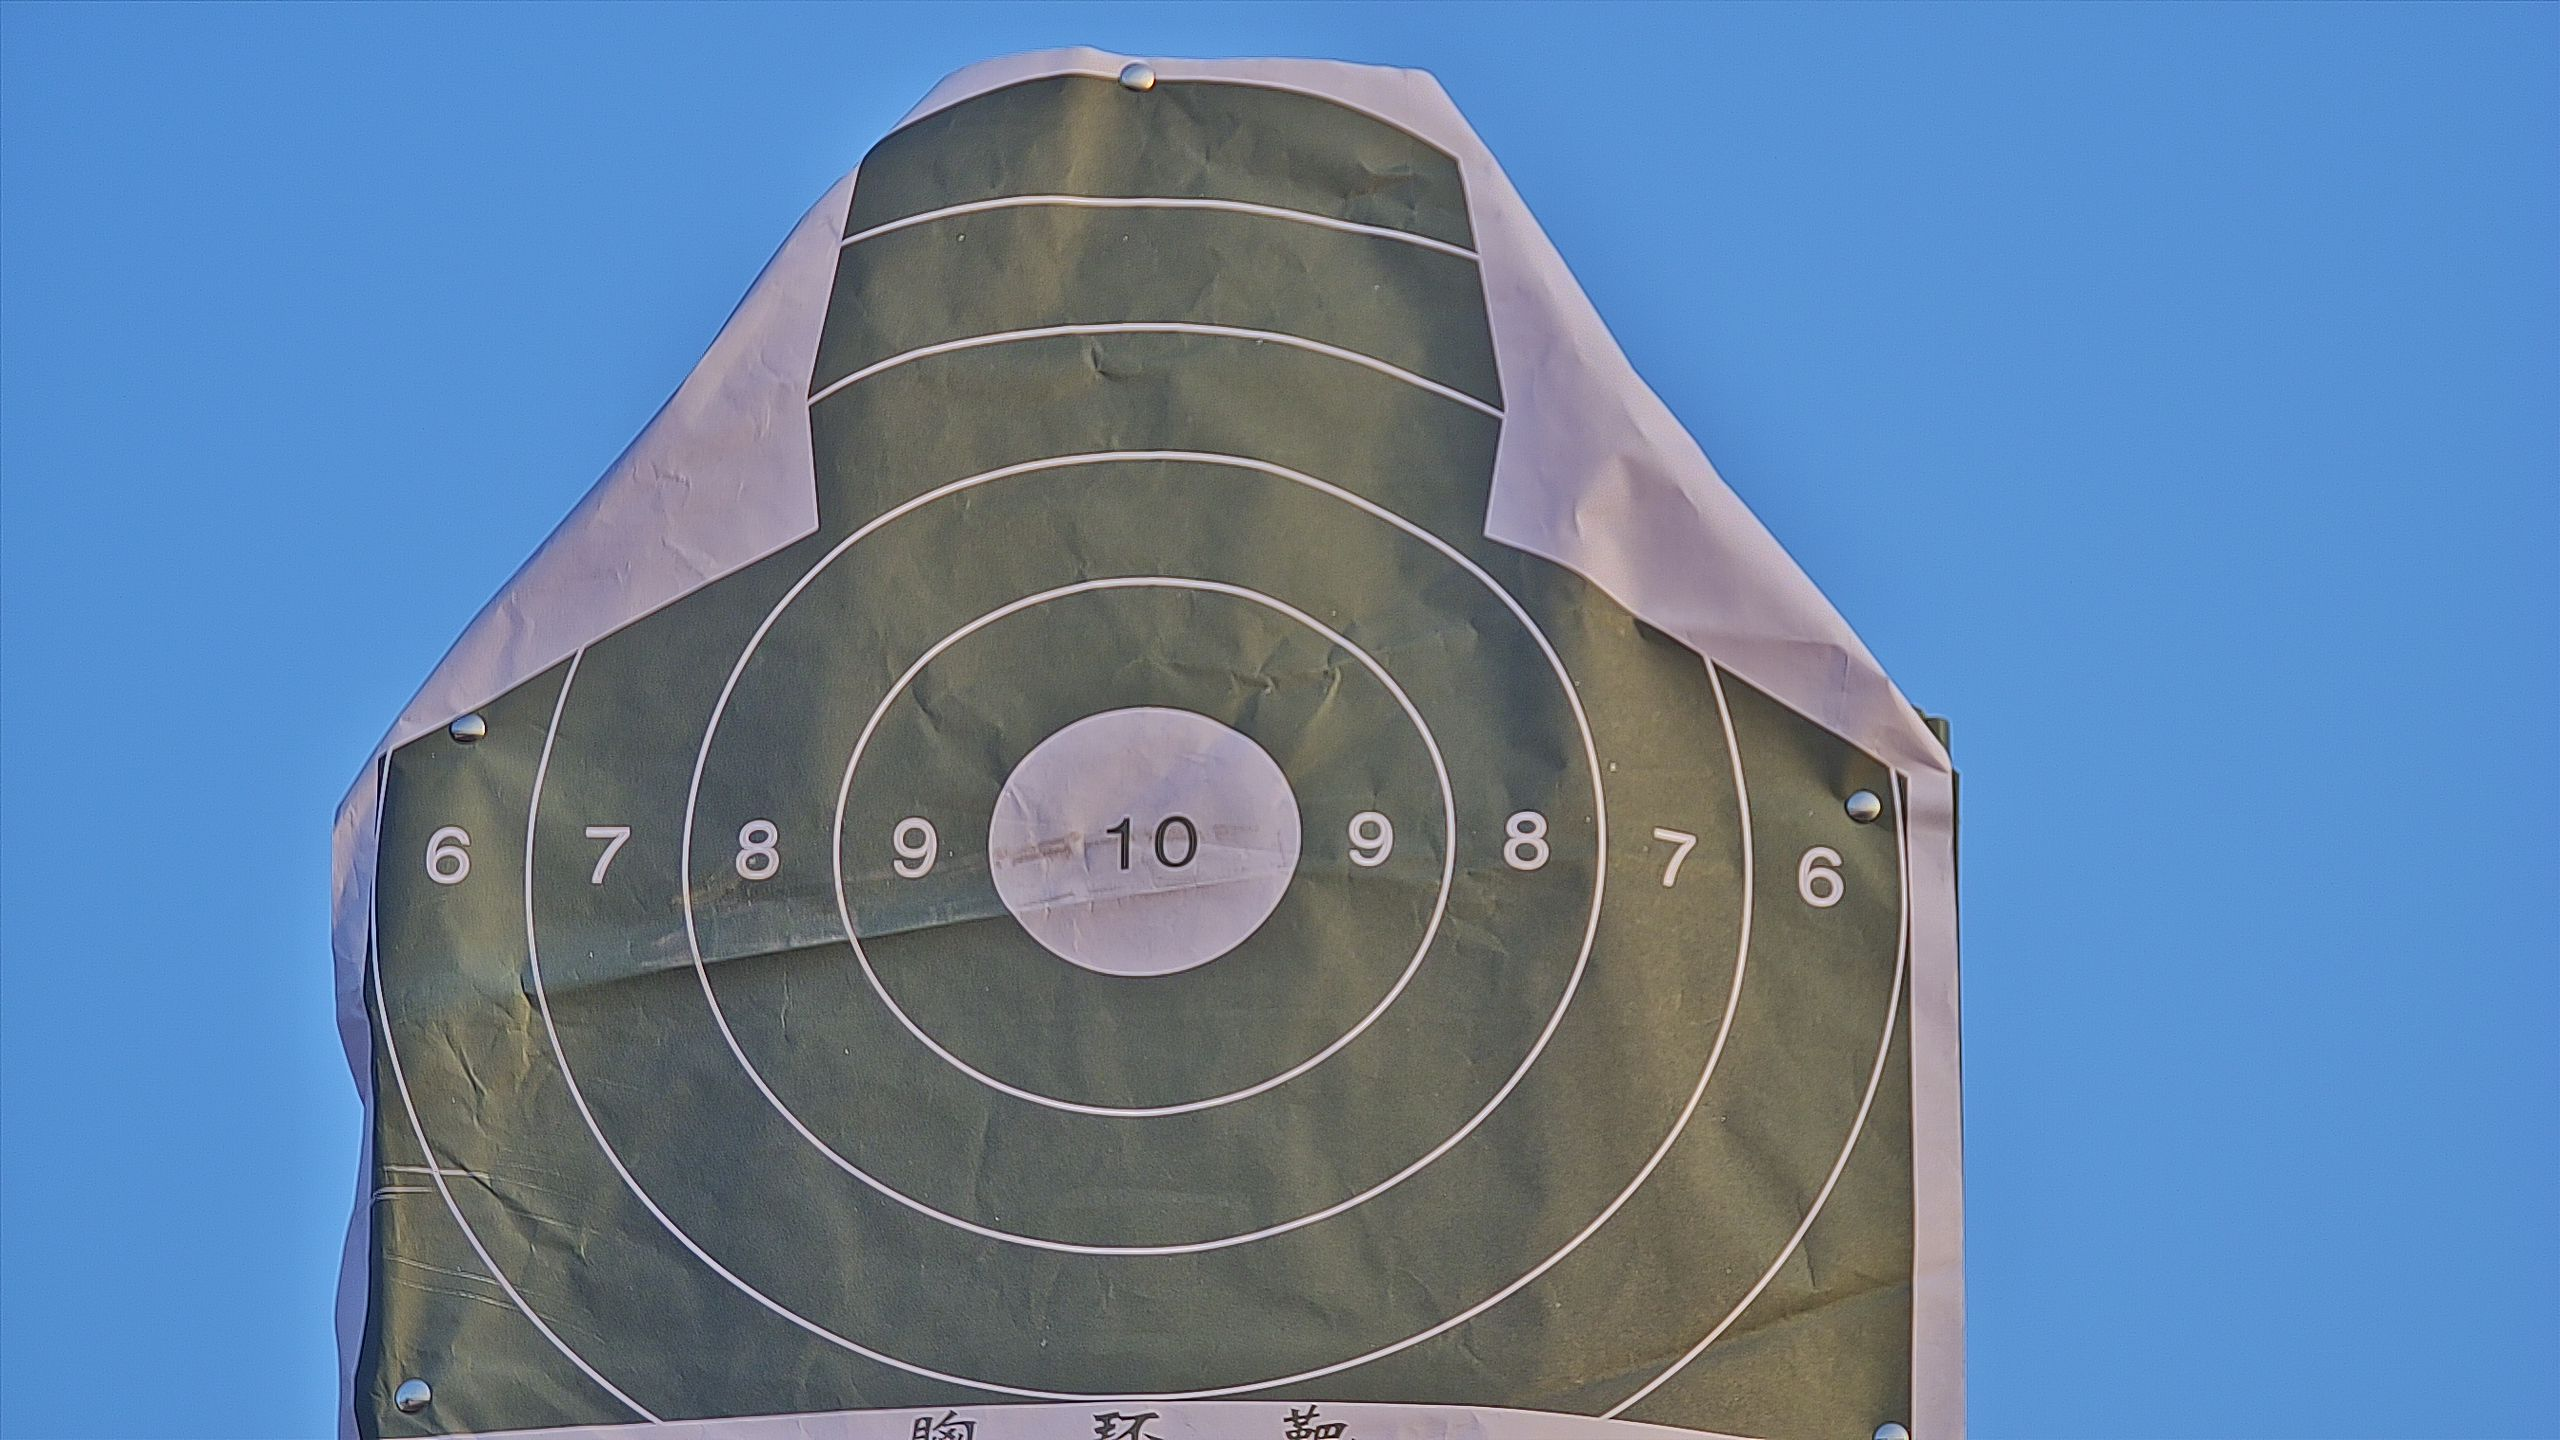kernel: (1139, 840, 1143, 846)
target: (366, 76, 1922, 1440)
ten: (988, 702, 1305, 978)
